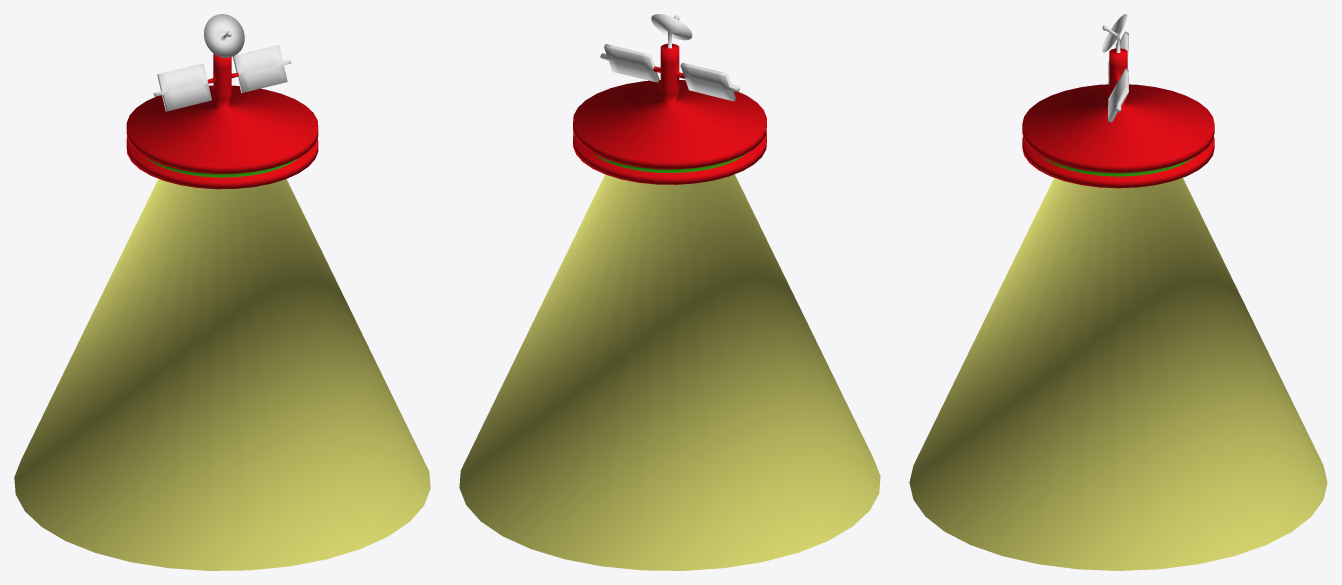
File: radar.fbx
3 views of the same model, side by side, from view 1: azimuth 30°, elevation 25°; view 2: azimuth 150°, elevation 25°; view 3: azimuth 270°, elevation 25° (orthographic).
Parts seen in each view (by area): view 1: 円.007; view 2: 円.007; view 3: 円.007.
Part boxes in pixels (x1,y1,x2,y2): 円.007: (14,14,430,570); 円.007: (459,14,880,570); 円.007: (909,14,1327,570).
Size of the model in its own units: 876 by 1077 by 876.
